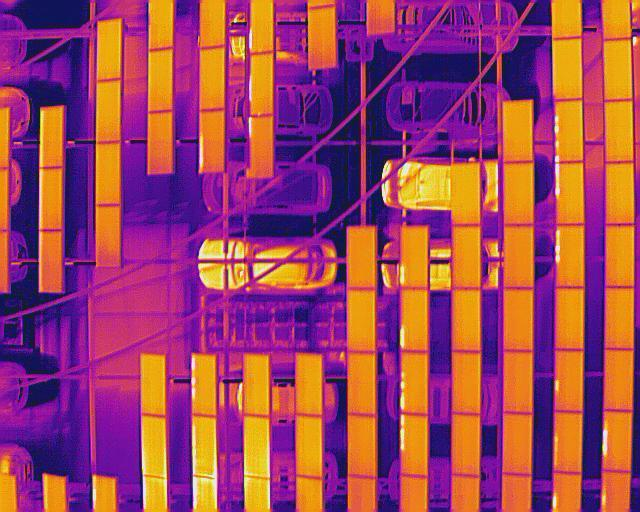Cell-Multi: (555, 99, 585, 162), (401, 287, 429, 352), (400, 352, 428, 415), (191, 355, 217, 420)
No-Anomaly: (347, 350, 377, 416), (295, 413, 324, 481), (502, 413, 533, 476), (605, 287, 635, 352), (348, 287, 377, 354), (605, 100, 635, 164), (504, 350, 534, 413), (605, 225, 635, 288), (504, 162, 534, 225), (503, 100, 533, 163), (554, 37, 584, 100), (504, 289, 534, 352), (452, 224, 481, 289), (296, 351, 323, 420), (505, 226, 535, 288), (452, 288, 481, 352), (606, 162, 634, 228), (604, 348, 633, 411), (605, 38, 634, 101), (348, 415, 376, 479), (243, 352, 270, 418), (452, 163, 481, 224), (555, 287, 583, 350), (453, 351, 480, 416), (309, 6, 336, 70), (453, 412, 480, 476), (554, 411, 582, 472), (199, 49, 226, 112), (349, 225, 375, 289), (96, 79, 122, 143), (148, 111, 174, 174), (140, 353, 165, 418), (149, 48, 174, 113), (98, 19, 123, 83), (39, 167, 64, 230), (40, 106, 65, 169), (97, 142, 121, 206), (96, 206, 121, 267), (39, 231, 63, 292)
Unclassified: (243, 414, 271, 481), (400, 226, 429, 289), (556, 162, 585, 225), (555, 349, 583, 414), (556, 225, 584, 290), (400, 412, 428, 477), (604, 409, 632, 472), (199, 110, 226, 174), (191, 413, 216, 481), (248, 115, 274, 178), (249, 52, 275, 114), (143, 416, 168, 479), (250, 1, 275, 52)
